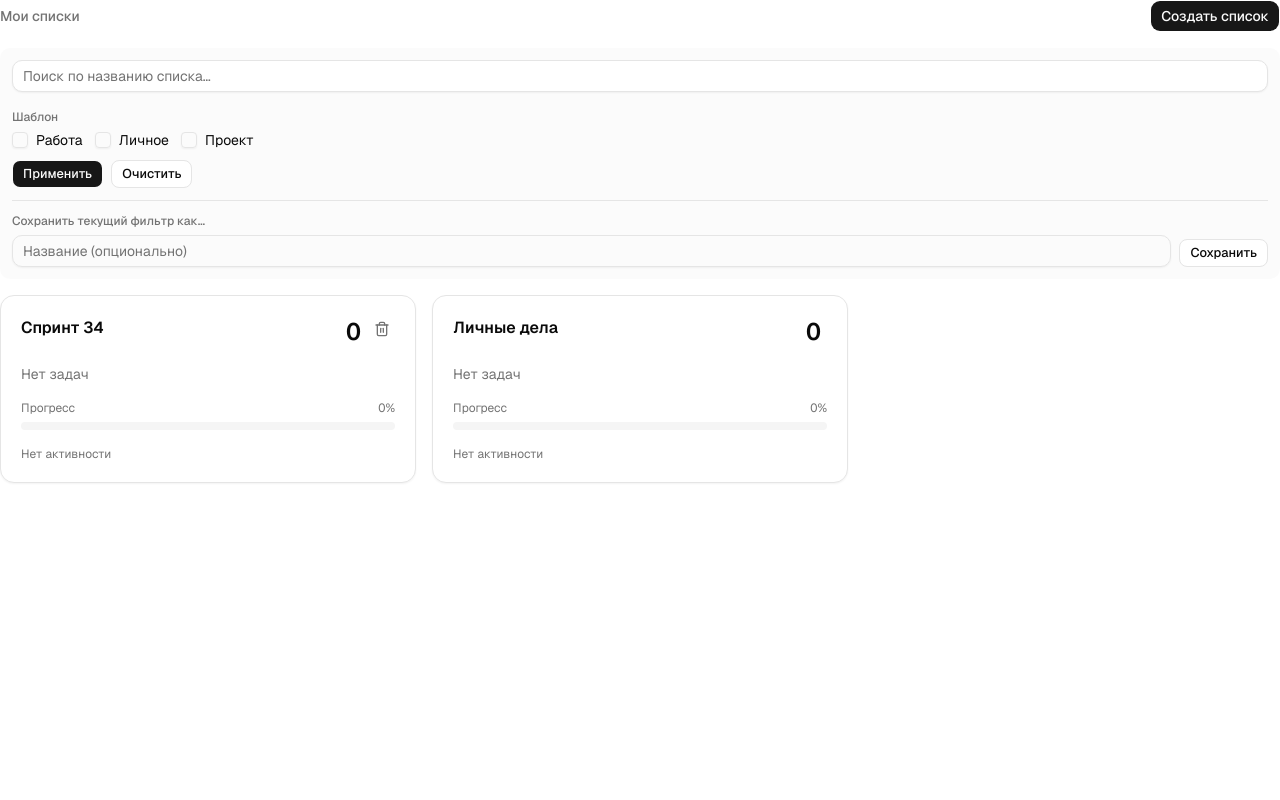
it: DashboardListsPanel › removes a deleted list from the dashboard without a page reload, and surfaces it as restorable
This screenshot has width=1280, height=800.
Expected: the number of links with test id "list-card" is 2, 0,295 -> 416,483; 432,295 -> 848,483
Click the button named "Удалить список «Спринт 34»".
click(382, 329)  # box 368,315 -> 396,343
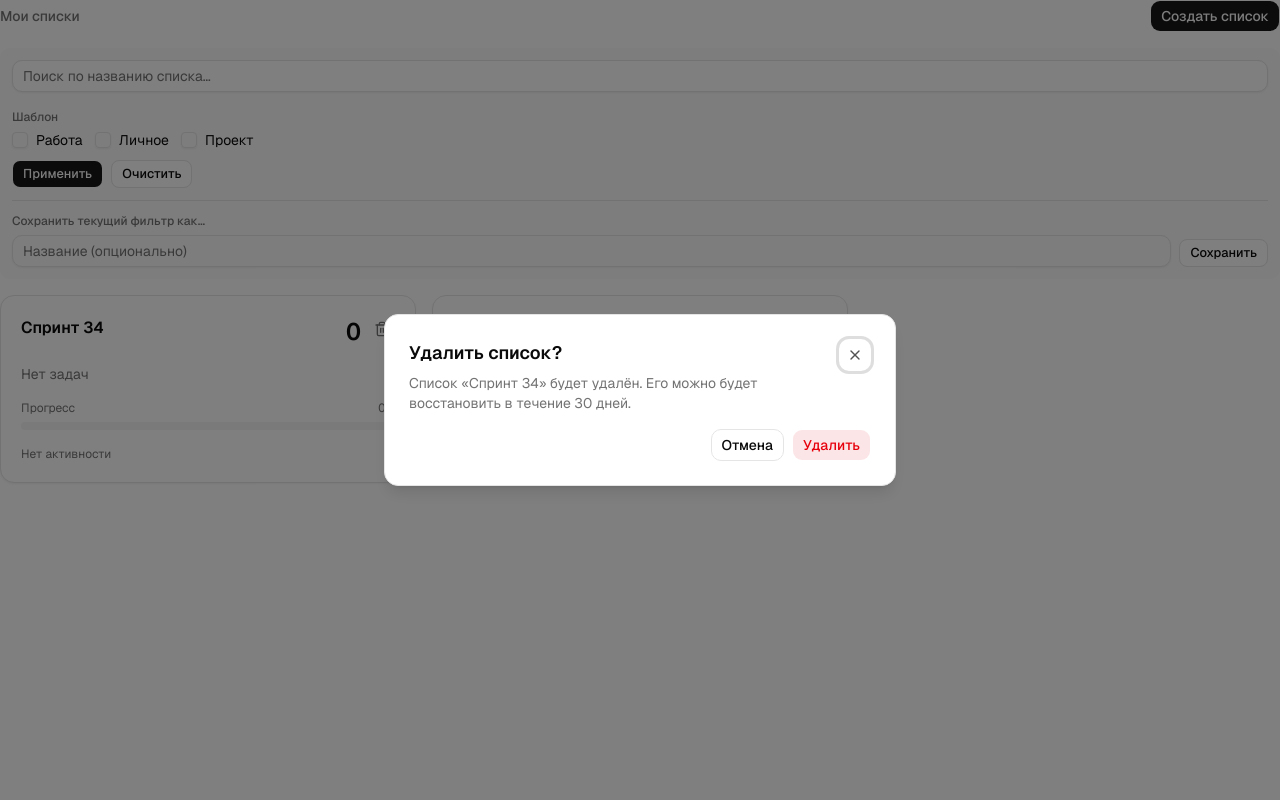
Click the button "Удалить".
click(832, 445)  # box 792,429 -> 871,461
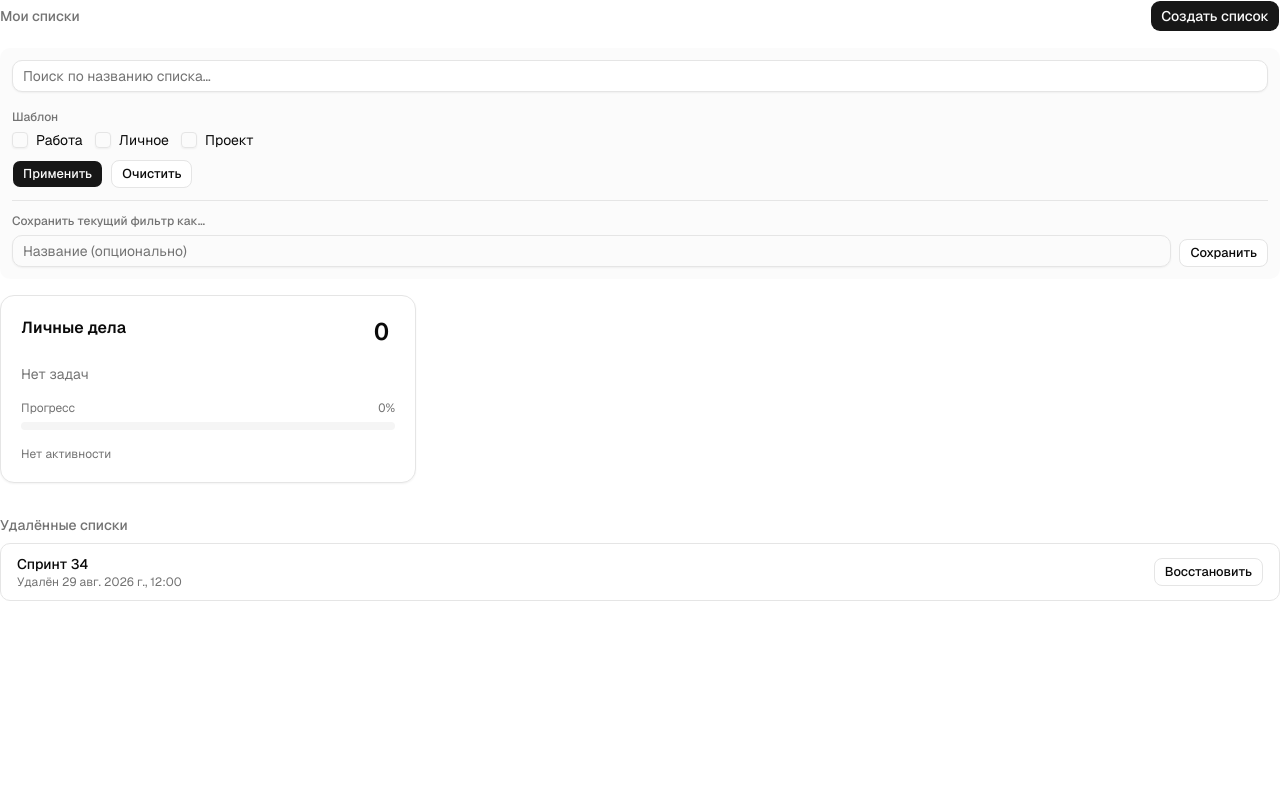
Expected: the heading "Личные дела" is shown, 21,316 -> 126,340
Expected: the button "Восстановить" is shown, 1154,558 -> 1263,586
Expected: the number of links with test id "list-card" is 1, 0,295 -> 416,483
